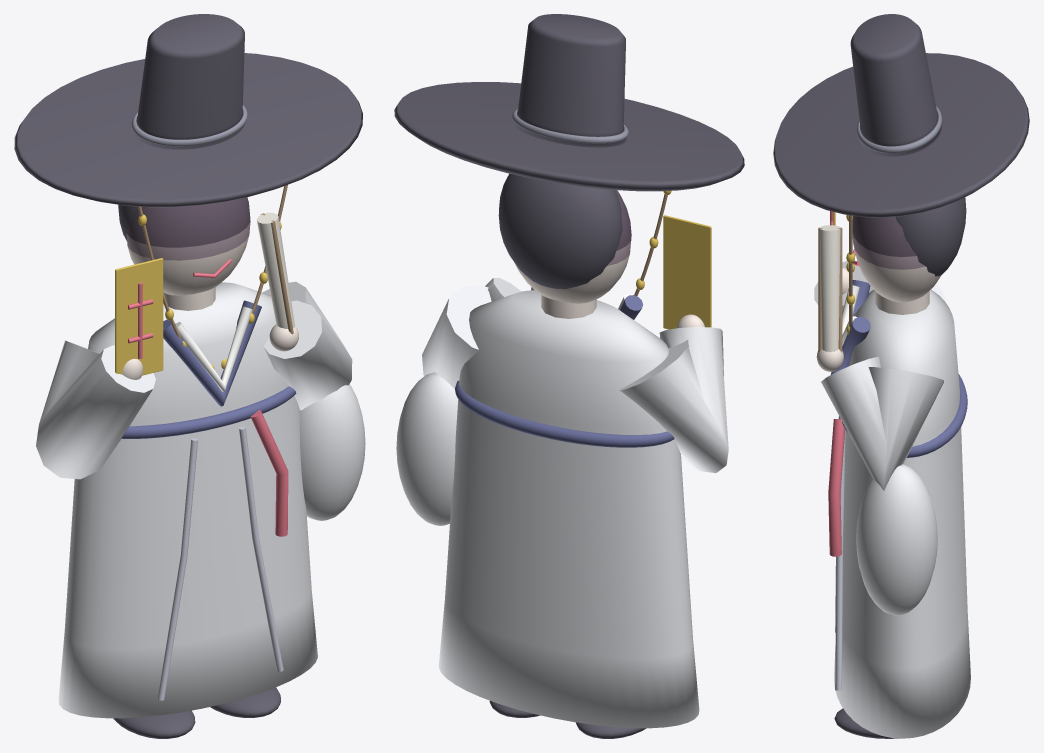
File: conch_jeonwoochi_closed_raise_0_0.glb
3 views of the same model, side by side, from view 1: azimuth 30°, elevation 25°; view 2: azimuth 150°, elevation 25°; view 3: azimuth 270°, elevation 25° (orthographic).
Bounding box in the file's own units: 27.8 × 55.23 × 18.85.
